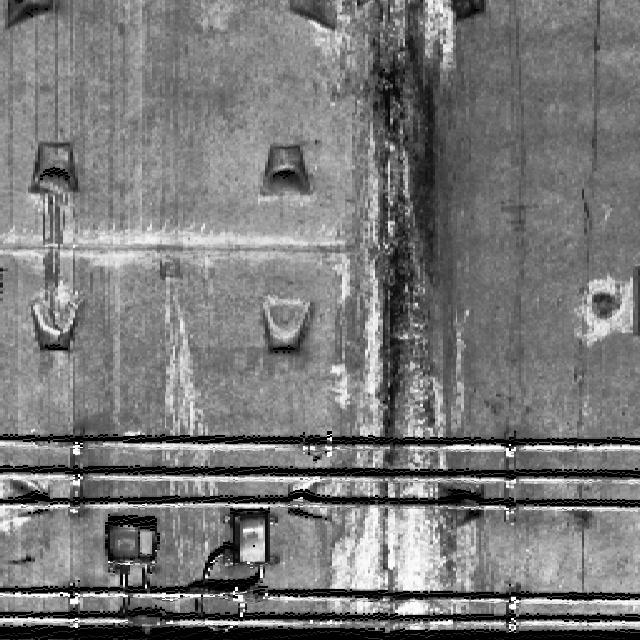leakage: (318, 0, 474, 631)
